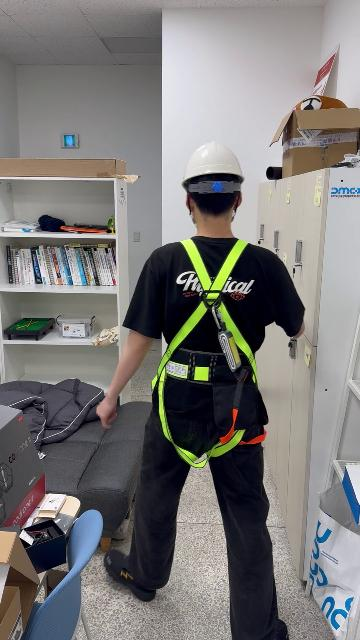helmet_worn: (181, 140, 246, 195)
shoe_worn: (104, 548, 159, 602)
vest_worn: (154, 236, 268, 464)
